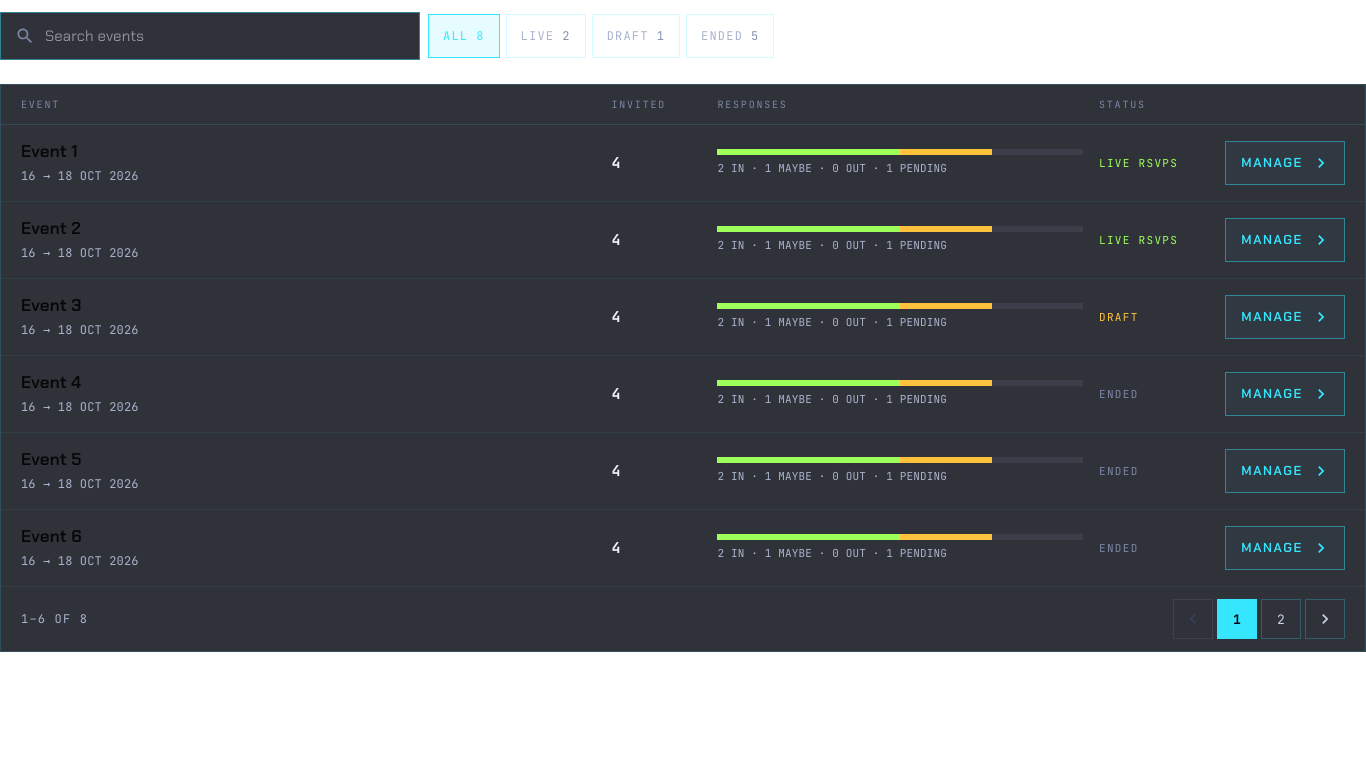
Test case: EventTable (admin) › filters by status server-side and resets to page 1
expect the text "Event 1" is shown: met, box [21,140,78,162]
Click the button named "Page 2" at (1281, 619), box [1261,599,1301,639]
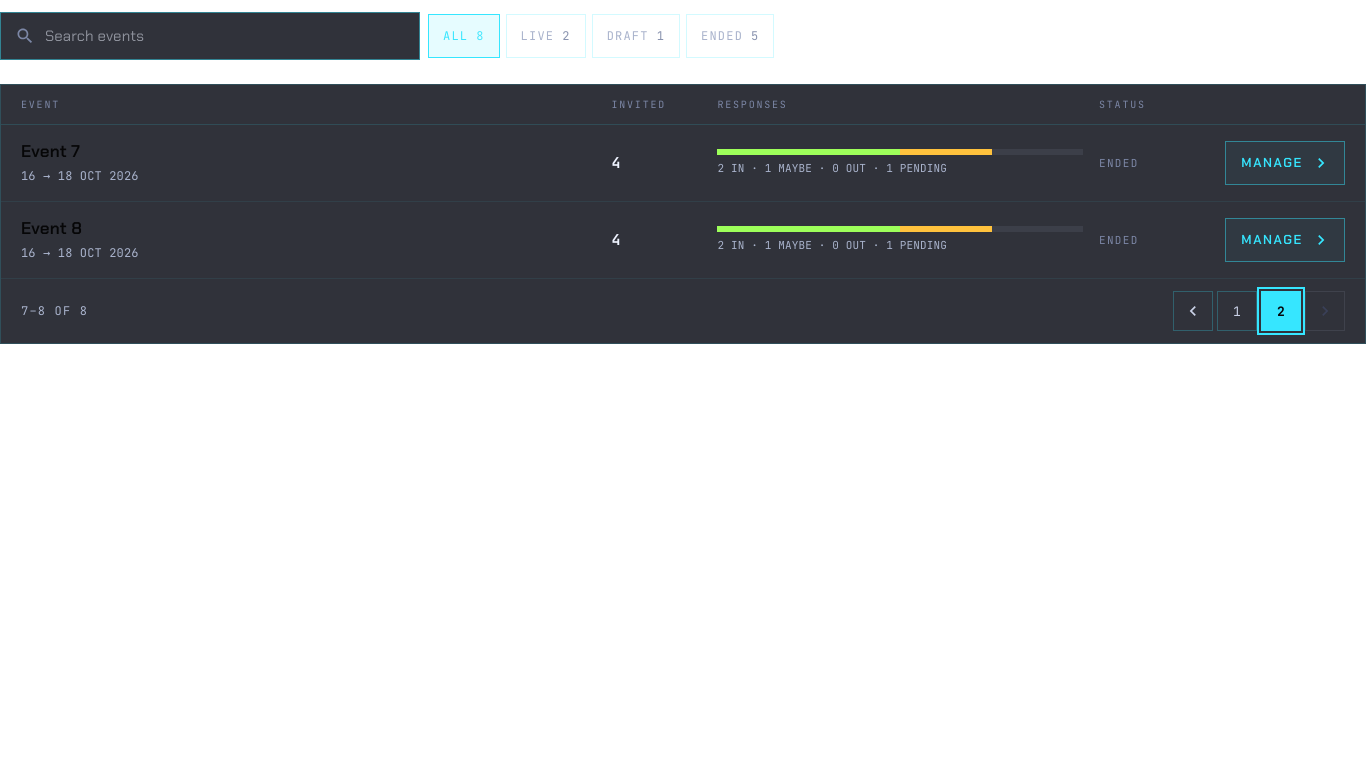
expect the text "Event 7" is shown: met, box [21,140,80,162]
Click the button "Draft 1" at (636, 36), box [592,14,680,58]
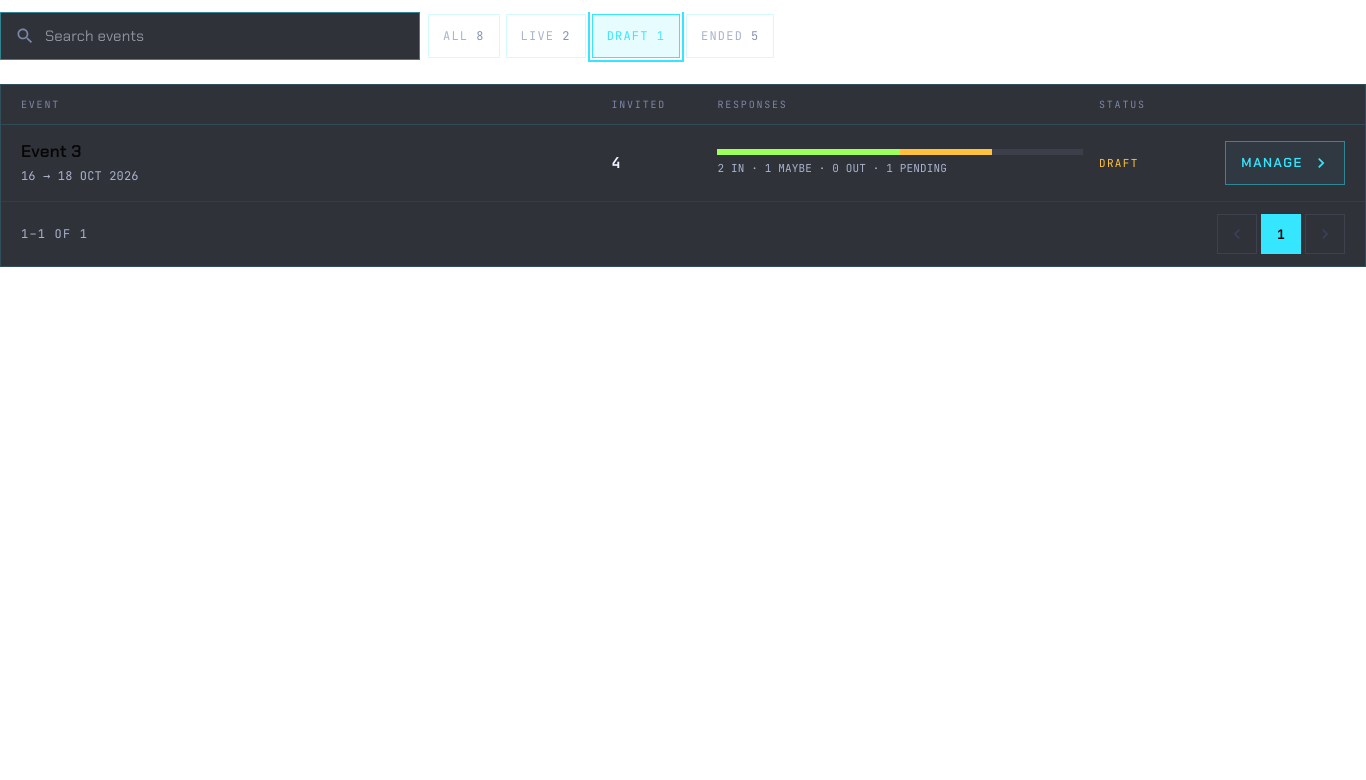
expect the text "Event 1" is not shown: met
expect the text "Event 3" is shown: met, box [21,140,82,162]
